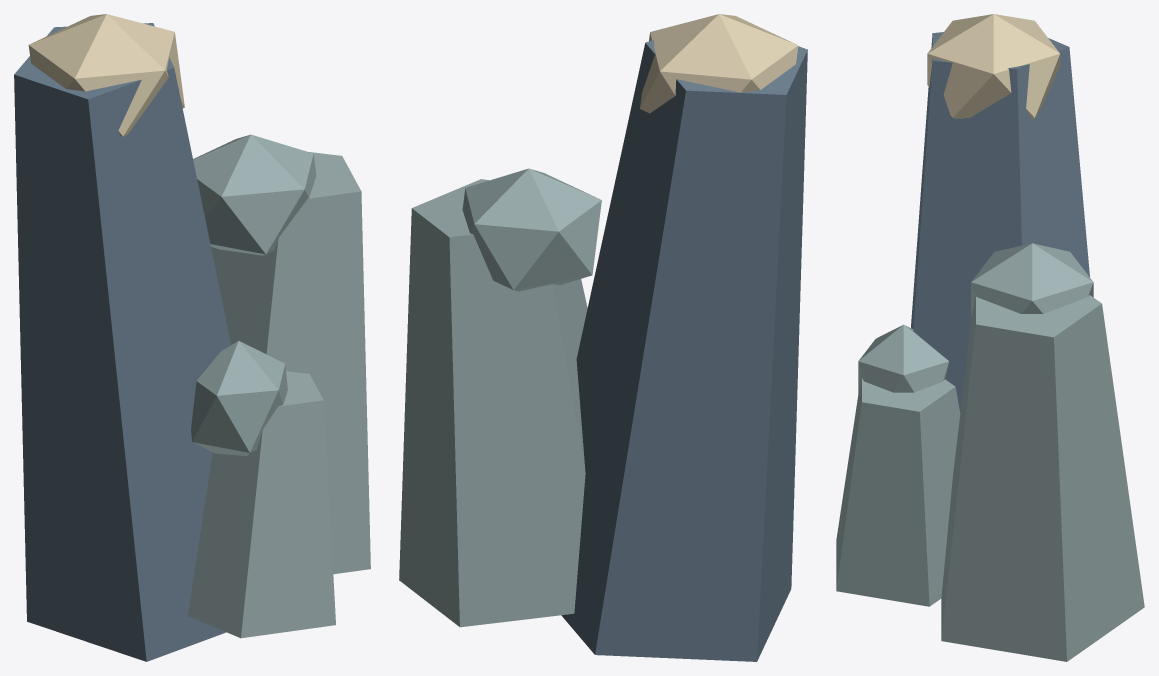
The model's file is cliff_rocks.glb.
3 views of the same model, side by side, from view 1: azimuth 30°, elevation 25°; view 2: azimuth 150°, elevation 25°; view 3: azimuth 270°, elevation 25° (orthographic). The views are drawn at different scales.
Visible parts, largest first — view 1: Cliff_RocksMesh; view 2: Cliff_RocksMesh; view 3: Cliff_RocksMesh.
Part boxes in pixels (box(x1,y1,x2,y2)): Cliff_RocksMesh: box(14, 14, 370, 661); Cliff_RocksMesh: box(399, 14, 807, 661); Cliff_RocksMesh: box(836, 14, 1144, 661).
Size of the model in its own units: 1.13 by 1.86 by 0.9603.
